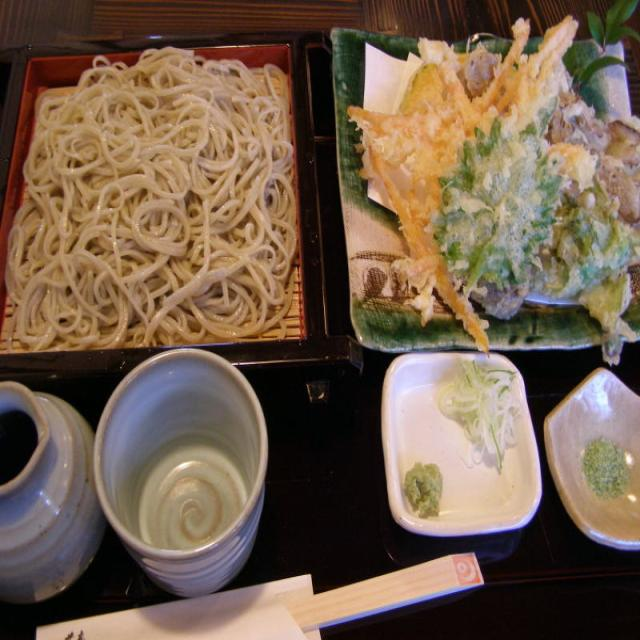蔬菜料理: (346, 0, 640, 363)
